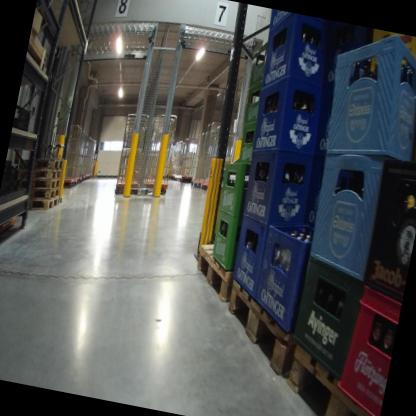pallet: (277, 337, 391, 416), (214, 278, 300, 377), (189, 238, 239, 303), (16, 148, 65, 183), (14, 159, 65, 189), (13, 176, 61, 202), (13, 172, 62, 197), (24, 192, 61, 219)
